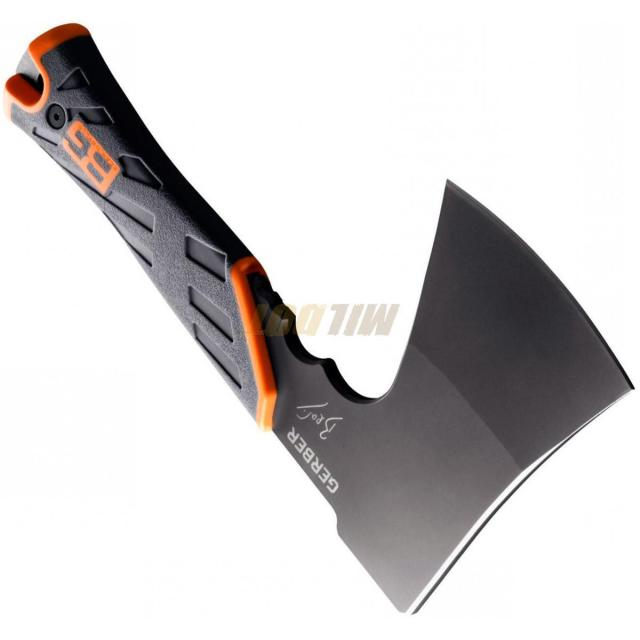Kapak: (19, 12, 540, 476)
